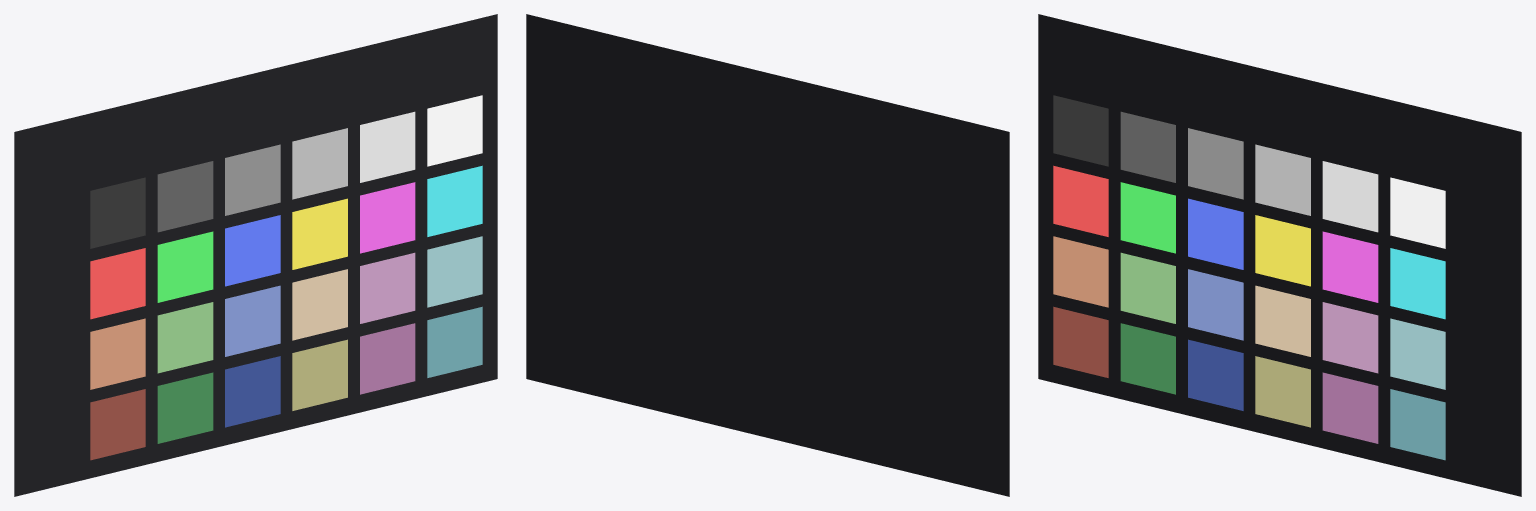
File: lut_fixture.gltf
The picture shows the model from 3 angles, left to right: view 1: azimuth 30°, elevation 25°; view 2: azimuth 150°, elevation 25°; view 3: azimuth 330°, elevation 25°; orthographic projection.
Parts seen in each view (by area): view 1: backdrop, patch_19_colour, patch_07_colour, patch_13_colour, patch_01_grey, patch_03_grey, patch_05_grey, patch_06_colour, patch_10_colour, patch_12_colour, patch_15_colour, patch_17_colour (+13 smaller); view 2: backdrop; view 3: backdrop, patch_22_colour, patch_10_colour, patch_16_colour, patch_04_grey, patch_00_grey, patch_02_grey, patch_07_colour, patch_11_colour, patch_12_colour, patch_14_colour, patch_17_colour (+13 smaller).
Part boxes in pixels (x1,y1,x2,y2): backdrop: (14,14,497,496); patch_19_colour: (157,372,213,443); patch_07_colour: (157,231,213,302); patch_13_colour: (157,302,213,373); patch_01_grey: (157,161,213,232); patch_03_grey: (292,128,347,199); patch_05_grey: (427,95,482,166); patch_06_colour: (90,248,145,319); patch_10_colour: (360,182,415,253); patch_12_colour: (90,318,145,389); patch_15_colour: (292,269,347,340); patch_17_colour: (427,236,482,307); backdrop: (526,14,1009,496); backdrop: (1038,14,1521,496); patch_22_colour: (1322,372,1378,443); patch_10_colour: (1322,231,1378,302); patch_16_colour: (1322,302,1378,373); patch_04_grey: (1322,161,1378,232); patch_00_grey: (1053,95,1108,166); patch_02_grey: (1188,128,1243,199); patch_07_colour: (1120,182,1175,253); patch_11_colour: (1390,248,1445,319); patch_12_colour: (1053,236,1108,307); patch_14_colour: (1188,269,1243,340); patch_17_colour: (1390,318,1445,389).
Bounding box in the file's own units: 7.32 × 5.28 × 0.8.
